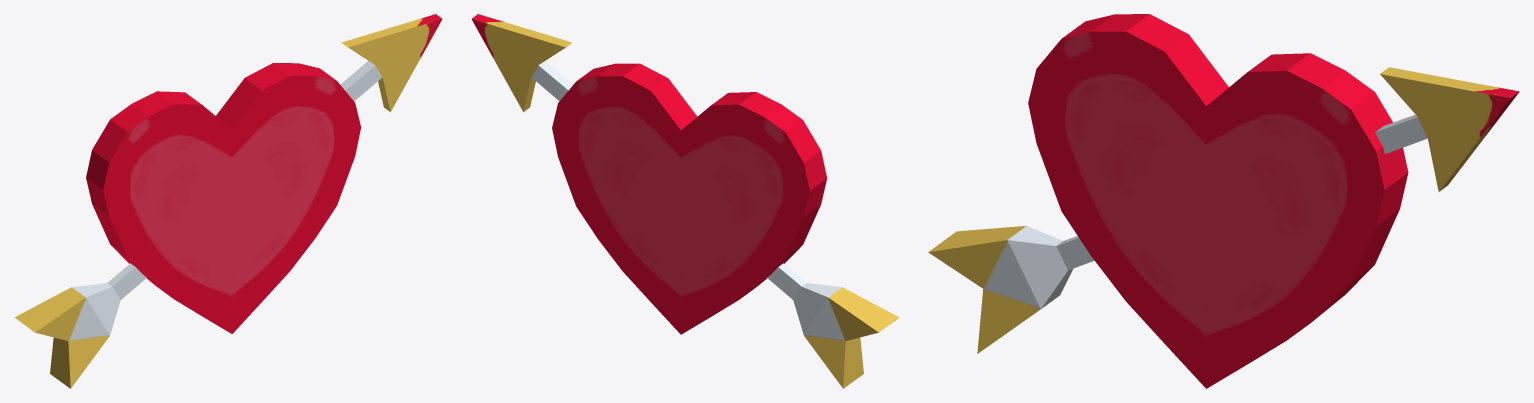
The model's file is Heart.fbx.
The picture shows the model from 3 angles, left to right: view 1: azimuth 30°, elevation 25°; view 2: azimuth 150°, elevation 25°; view 3: azimuth 330°, elevation 25°; orthographic projection. The views are drawn at different scales.
Parts seen in each view (by area): view 1: Heart; view 2: Heart; view 3: Heart.
Part boxes in pixels (x1,y1,x2,y2): Heart: [14, 14, 442, 388]; Heart: [471, 14, 899, 388]; Heart: [928, 14, 1519, 388].
Size of the model in its own units: 80.94 by 50.85 by 7.
